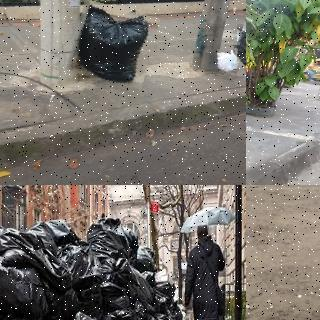Garbage: (70, 4, 156, 86), (0, 223, 73, 285), (0, 252, 51, 320), (99, 254, 157, 304), (86, 215, 130, 264), (103, 282, 135, 320), (211, 46, 246, 75), (233, 20, 246, 79), (140, 313, 174, 320), (246, 75, 250, 91)
